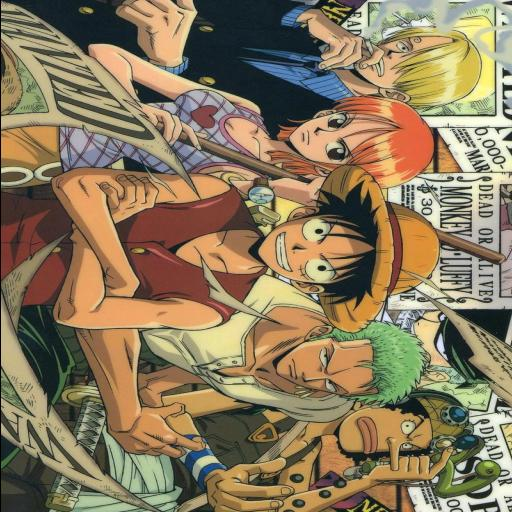Luffy: (0, 167, 451, 333)
Nami: (0, 86, 442, 190)
Usopp: (116, 378, 500, 512)
Zoro: (0, 308, 439, 418)
sanji: (94, 0, 497, 108)
